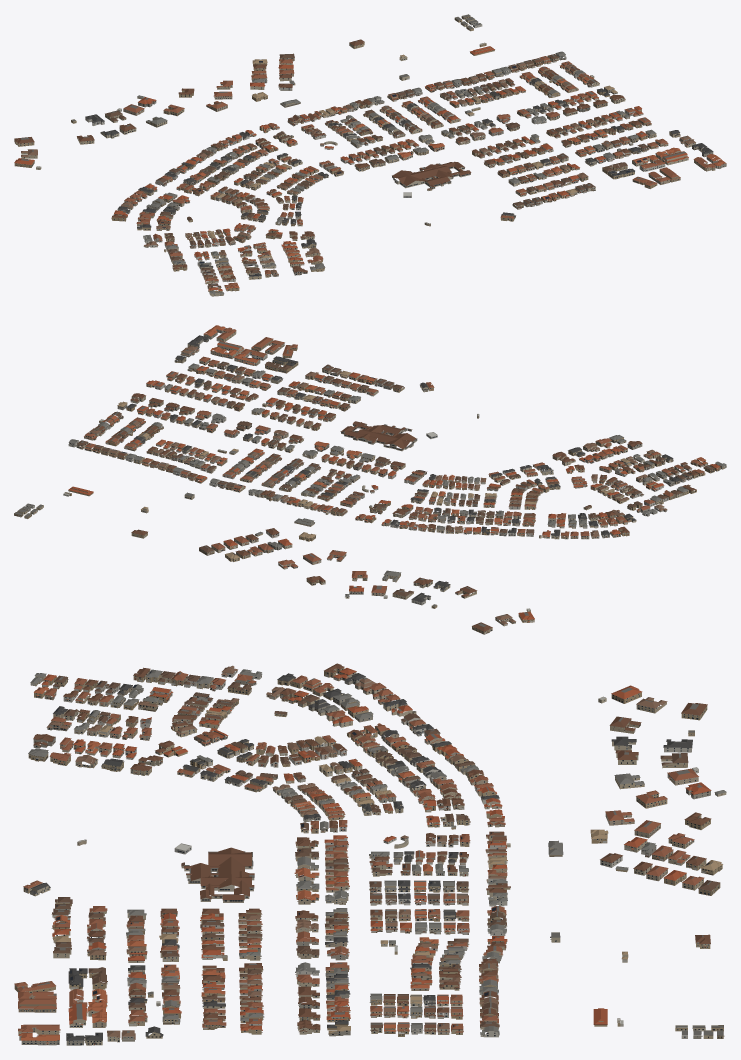
3 views of the same model, one above another, from view 1: azimuth 30°, elevation 25°; view 2: azimuth 150°, elevation 25°; view 3: azimuth 270°, elevation 25° (orthographic). The views are drawn at different scales.
Visible parts, largest first — view 1: buildings_r3_c2_lod0; view 2: buildings_r3_c2_lod0; view 3: buildings_r3_c2_lod0.
Boxes of the visible parts, x1,y1,x2,y2 form: buildings_r3_c2_lod0: (14, 14, 726, 296); buildings_r3_c2_lod0: (14, 325, 726, 634); buildings_r3_c2_lod0: (14, 663, 726, 1045).
Bounding box in the file's own units: 1048 × 50.69 × 816.
